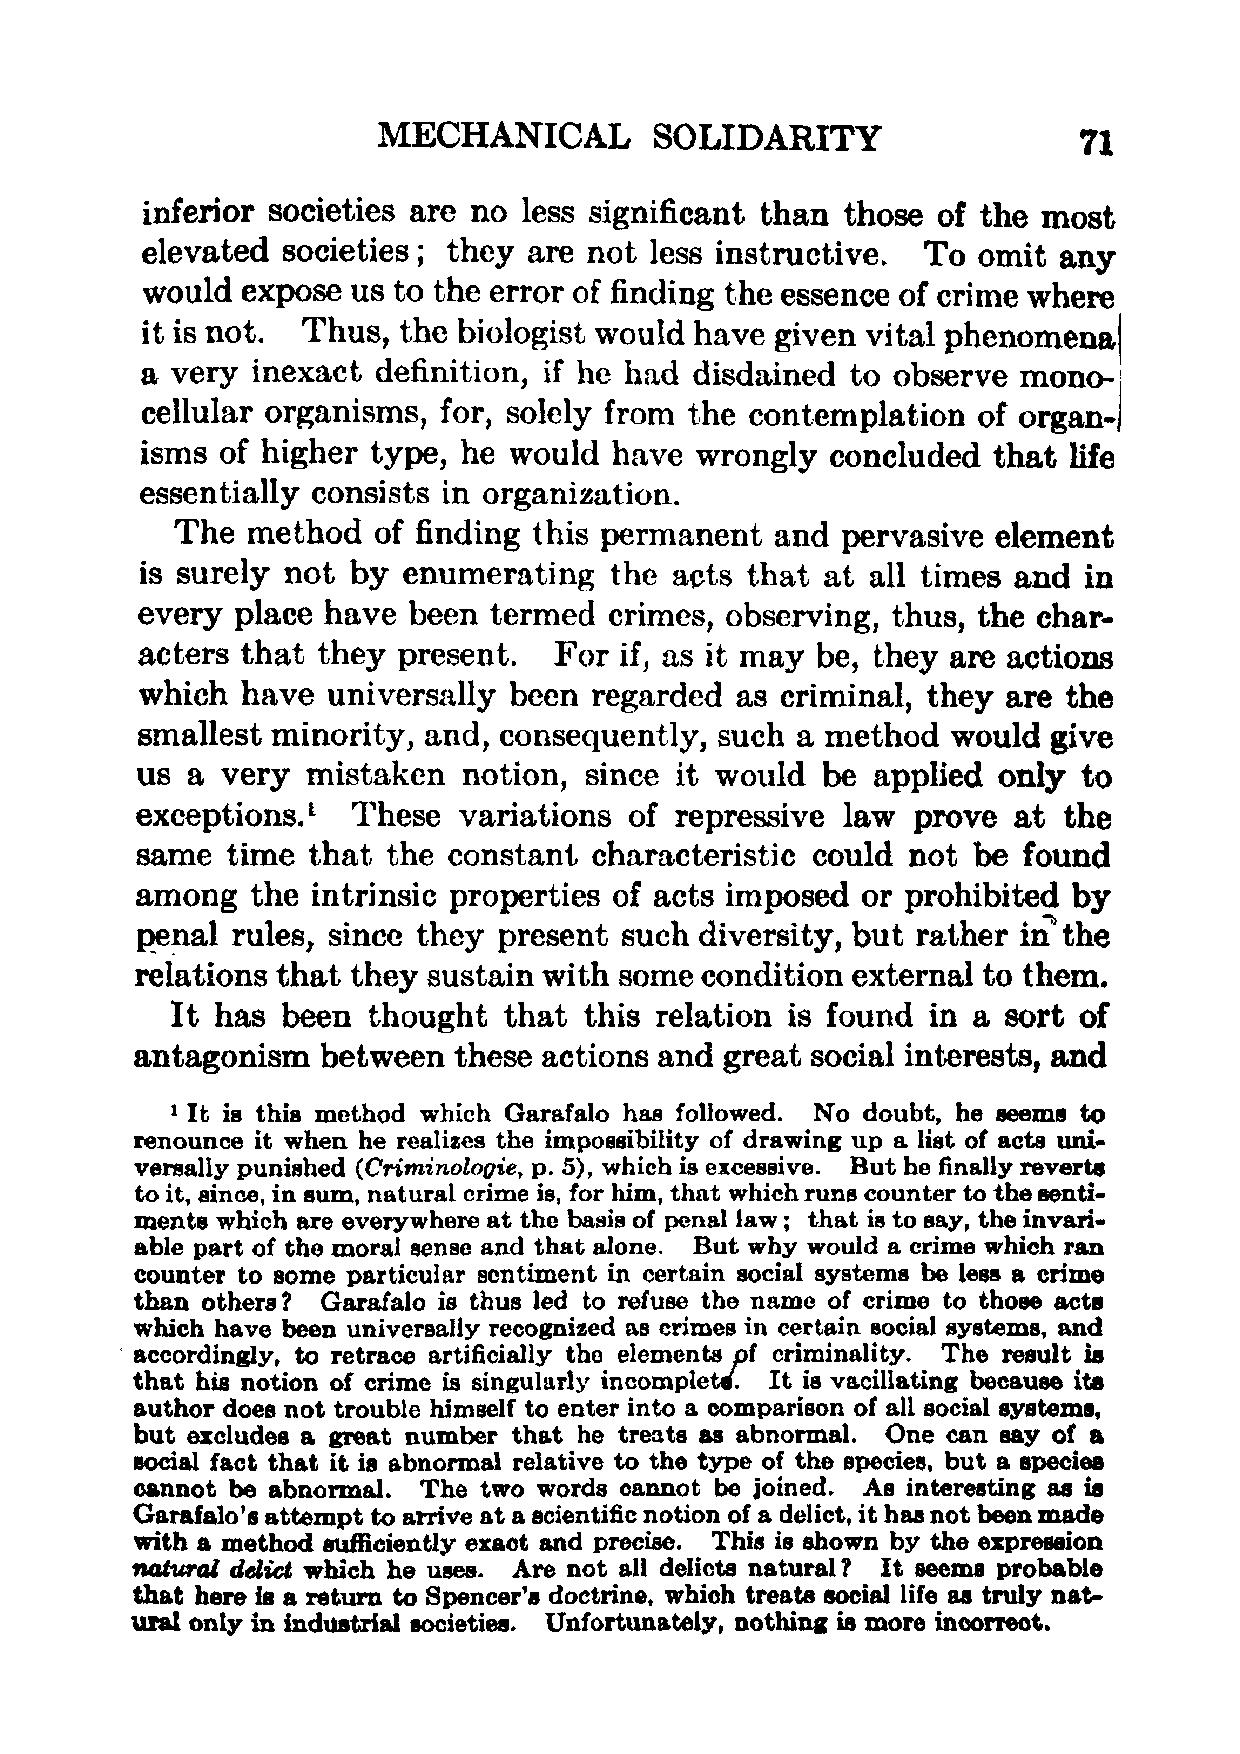content: (126, 191, 1122, 1643)
content_chapter: (370, 115, 880, 154)
content_pagenumber: (1074, 119, 1117, 160)
